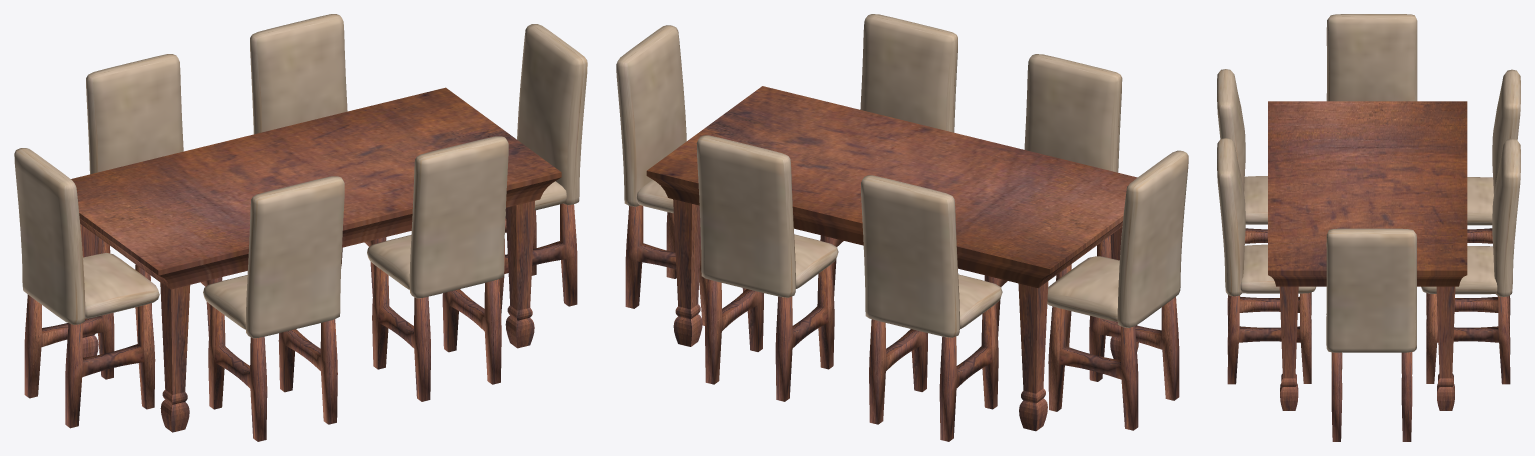
File: DinningTable.fbx
The picture shows the model from 3 angles, left to right: view 1: azimuth 30°, elevation 25°; view 2: azimuth 150°, elevation 25°; view 3: azimuth 270°, elevation 25°; orthographic projection. The views are drawn at different scales.
Parts seen in each view (by area): view 1: Chair.004; view 2: Chair.004; view 3: Chair.004.
Boxes of the visible parts, <box> form: Chair.004: <box>14,14,587,441</box>; Chair.004: <box>616,14,1188,441</box>; Chair.004: <box>1217,14,1520,441</box>.
Size of the model in its own units: 240 by 107 by 139.
